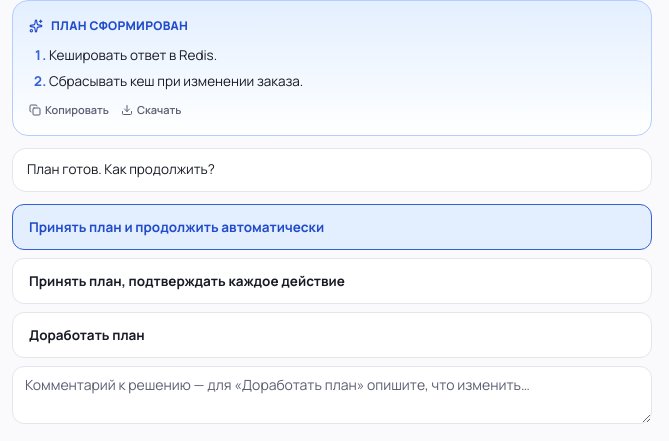
DecisionWidget › отправка решения › пока решение отправляется, варианты неактивны
Click the button "Принять план и продолжить автоматически" at (177, 227), box [12,204,652,250]
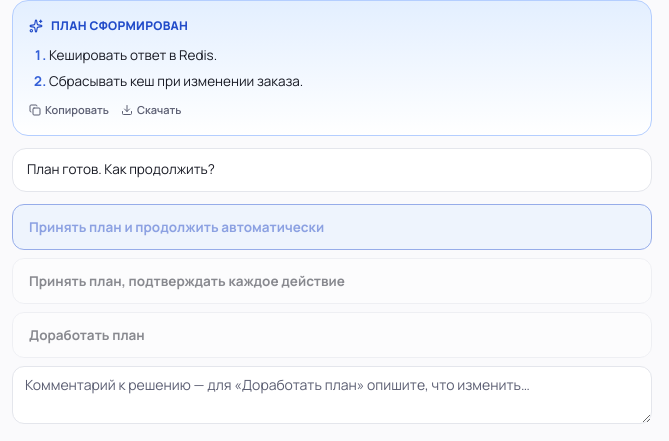
Expected: the button "Принять план и продолжить автоматически" is disabled, [12,204,652,250]
Expected: the button "Принять план, подтверждать каждое действие" is disabled, [12,258,652,304]
Expected: the button "Доработать план" is disabled, [12,312,652,358]
